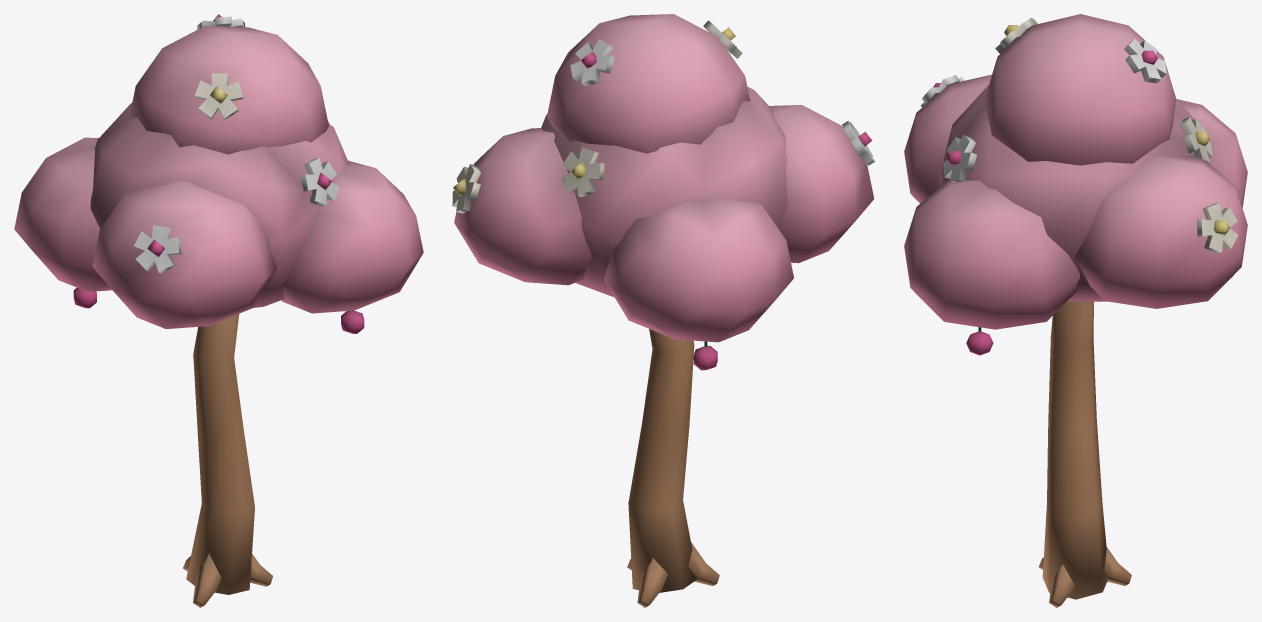
File: tree-pink.glb
The picture shows the model from 3 angles, left to right: view 1: azimuth 30°, elevation 25°; view 2: azimuth 150°, elevation 25°; view 3: azimuth 270°, elevation 25°; orthographic projection. The views are drawn at different scales.
Parts seen in each view (by area): view 1: PROP_TREE_PINK__body; view 2: PROP_TREE_PINK__body; view 3: PROP_TREE_PINK__body.
Boxes of the visible parts, bbox=[...] form: PROP_TREE_PINK__body: bbox=[14, 14, 423, 607]; PROP_TREE_PINK__body: bbox=[452, 14, 875, 607]; PROP_TREE_PINK__body: bbox=[904, 14, 1247, 607].
Size of the model in its own units: 1.12 by 2 by 1.09.
